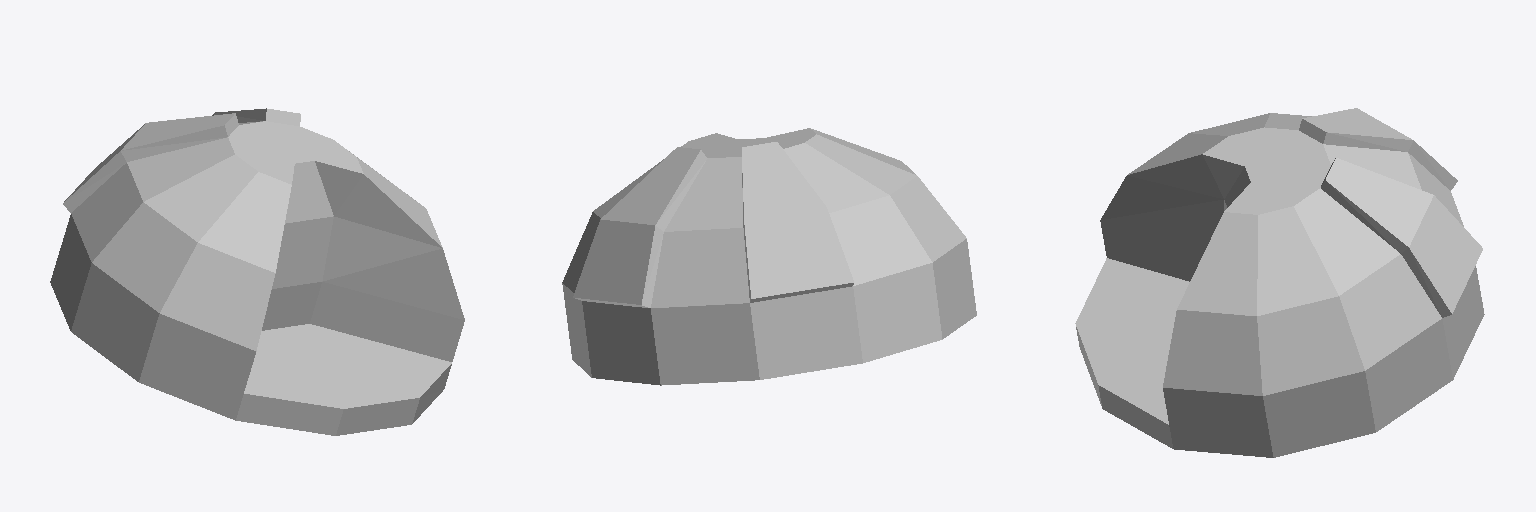
The model's file is LTurret.obj.
The picture shows the model from 3 angles: view 1: azimuth 30°, elevation 25°; view 2: azimuth 150°, elevation 25°; view 3: azimuth 270°, elevation 25°; orthographic projection.
Parts seen in each view (by area): view 1: LTurret; view 2: LTurret; view 3: LTurret.
Boxes of the visible parts, <box> form: LTurret: <box>50,108,464,435</box>; LTurret: <box>562,128,976,385</box>; LTurret: <box>1075,108,1484,457</box>.
Bounding box in the file's own units: 30.69 × 20.8 × 30.23.